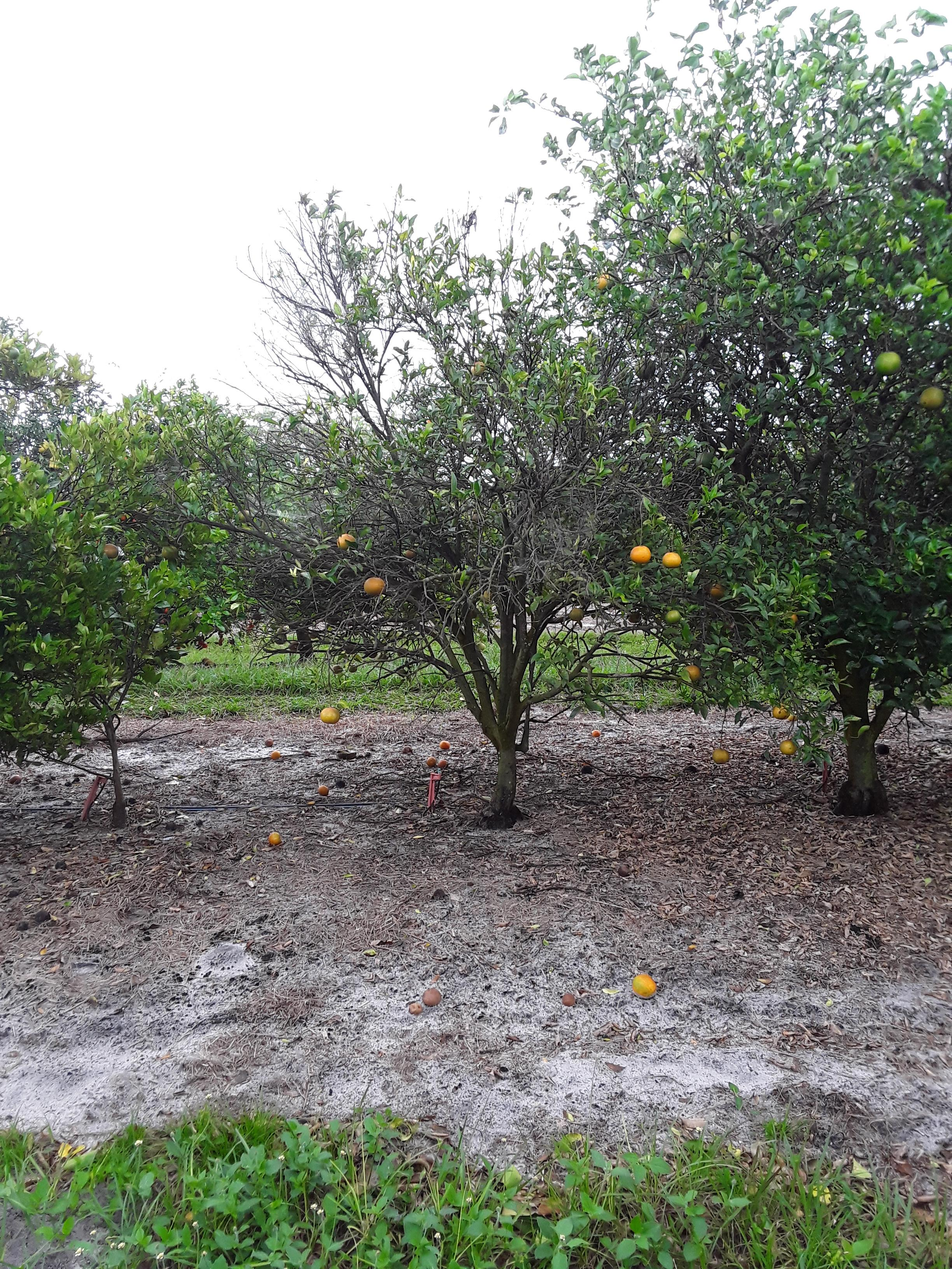fruit_on_ground: (871, 347, 905, 378), (917, 384, 949, 414), (665, 223, 694, 250), (632, 356, 658, 381), (628, 543, 653, 565), (362, 574, 387, 596), (679, 661, 703, 683), (335, 530, 359, 552), (318, 705, 343, 726), (592, 271, 614, 293), (660, 549, 682, 570), (782, 606, 803, 627), (777, 736, 798, 757), (468, 357, 489, 378), (99, 541, 121, 561), (707, 580, 728, 600), (663, 606, 683, 626), (406, 581, 426, 600), (160, 542, 180, 561), (400, 543, 419, 562), (567, 604, 586, 622), (477, 587, 495, 605), (234, 507, 252, 525), (270, 630, 289, 646), (625, 608, 641, 624), (5, 345, 22, 360), (287, 640, 303, 655), (331, 662, 344, 677), (306, 627, 319, 641), (346, 663, 359, 673)
fruit_on_tree: (630, 972, 658, 1000), (421, 987, 442, 1008), (710, 746, 731, 766), (558, 989, 577, 1008), (407, 998, 425, 1017), (770, 703, 789, 720), (33, 908, 51, 925), (614, 861, 633, 877), (784, 707, 802, 723), (429, 885, 447, 900), (874, 741, 892, 756), (267, 830, 282, 846), (316, 782, 331, 797), (579, 762, 595, 776), (7, 773, 23, 785), (268, 748, 282, 761), (425, 753, 438, 766), (437, 756, 450, 768), (400, 744, 414, 755), (589, 728, 602, 739), (438, 739, 451, 750), (263, 737, 275, 747)
